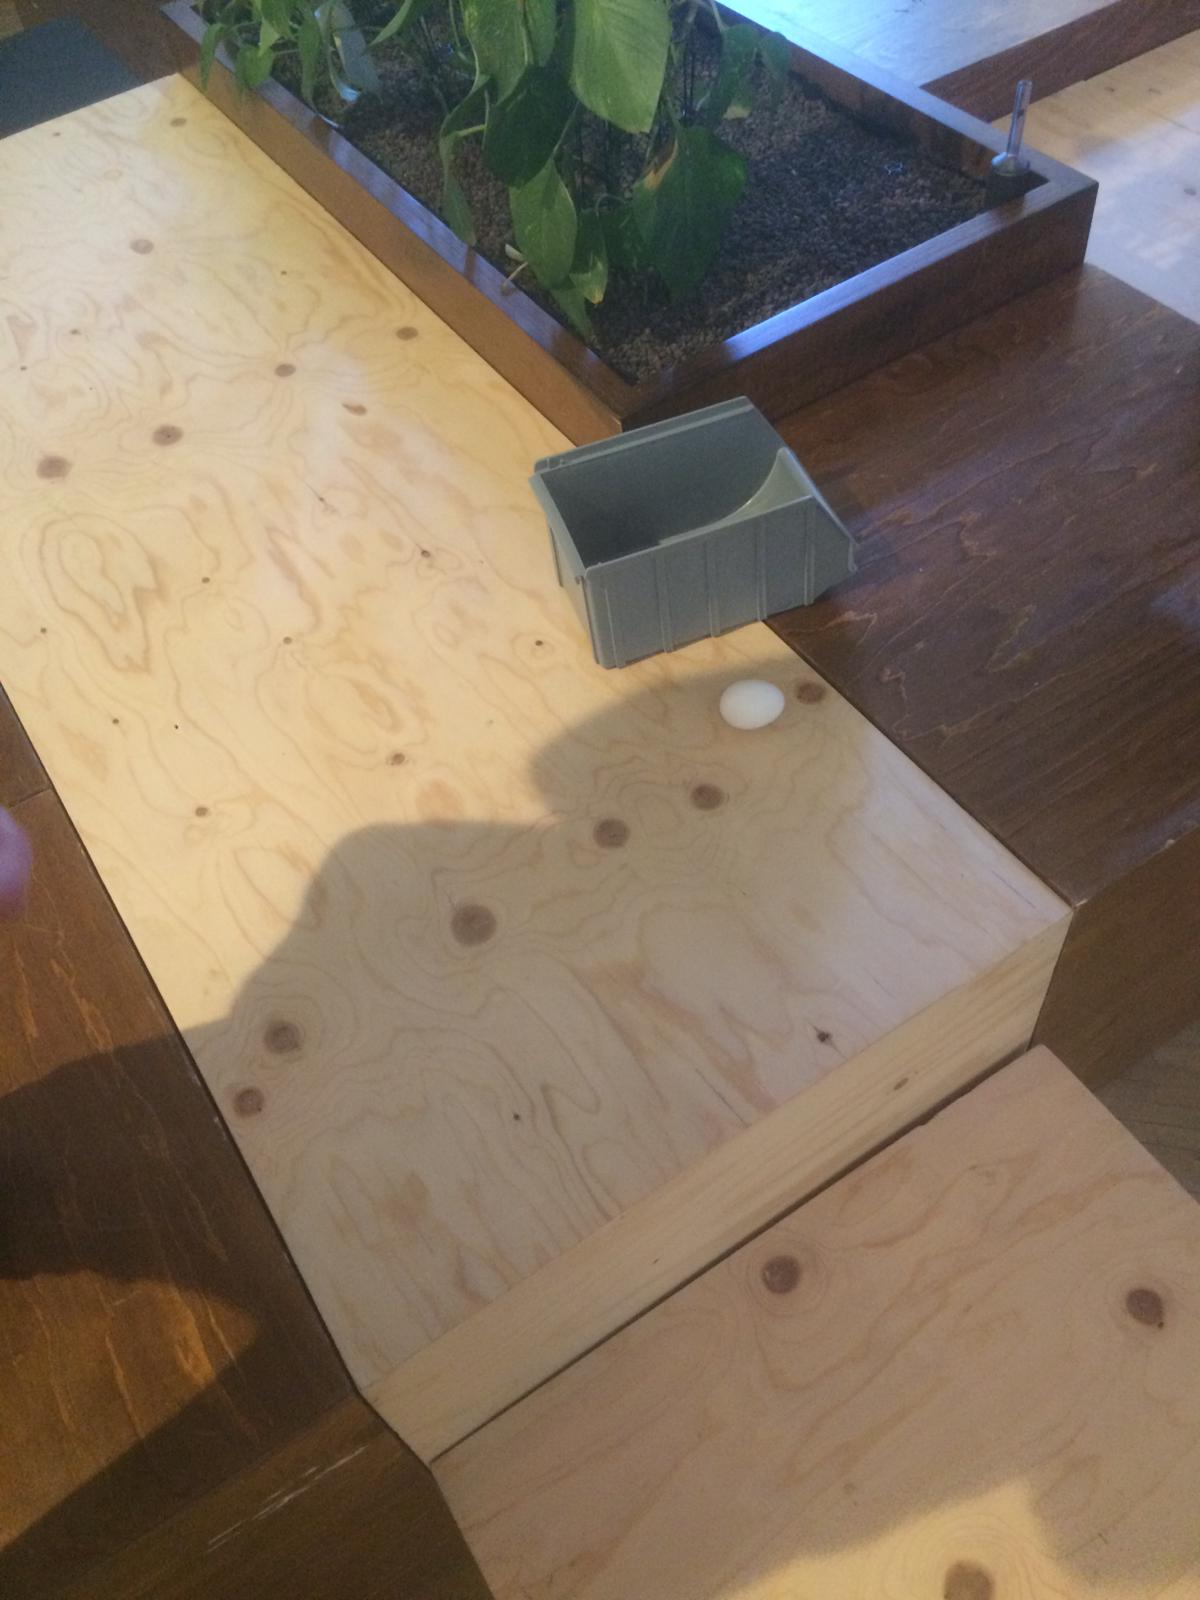egg: (710, 671, 792, 729)
tray_left: (557, 496, 861, 668)
